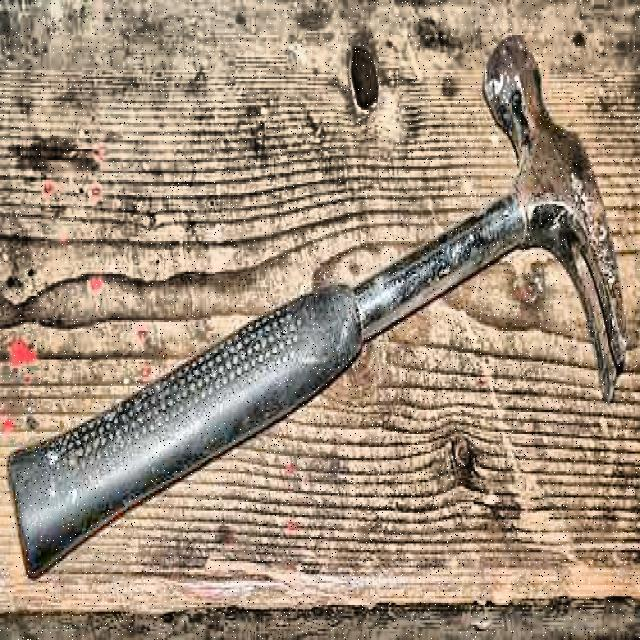hammer: (3, 27, 630, 581)
